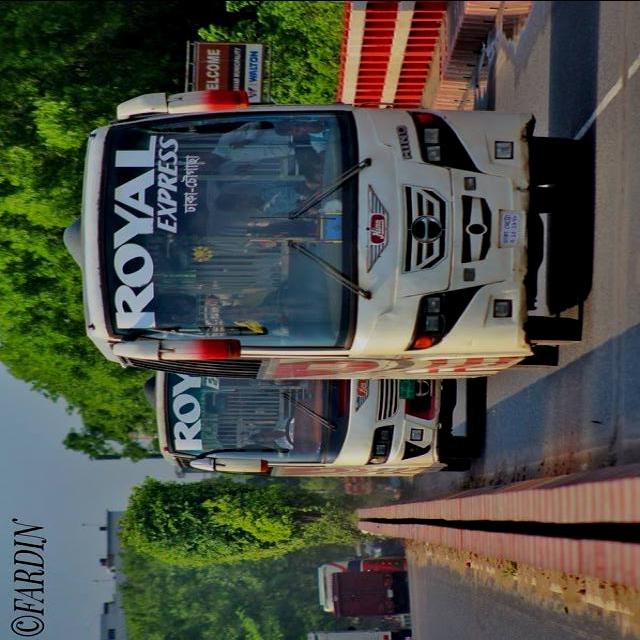bus: (59, 86, 588, 381), (141, 376, 484, 478)
